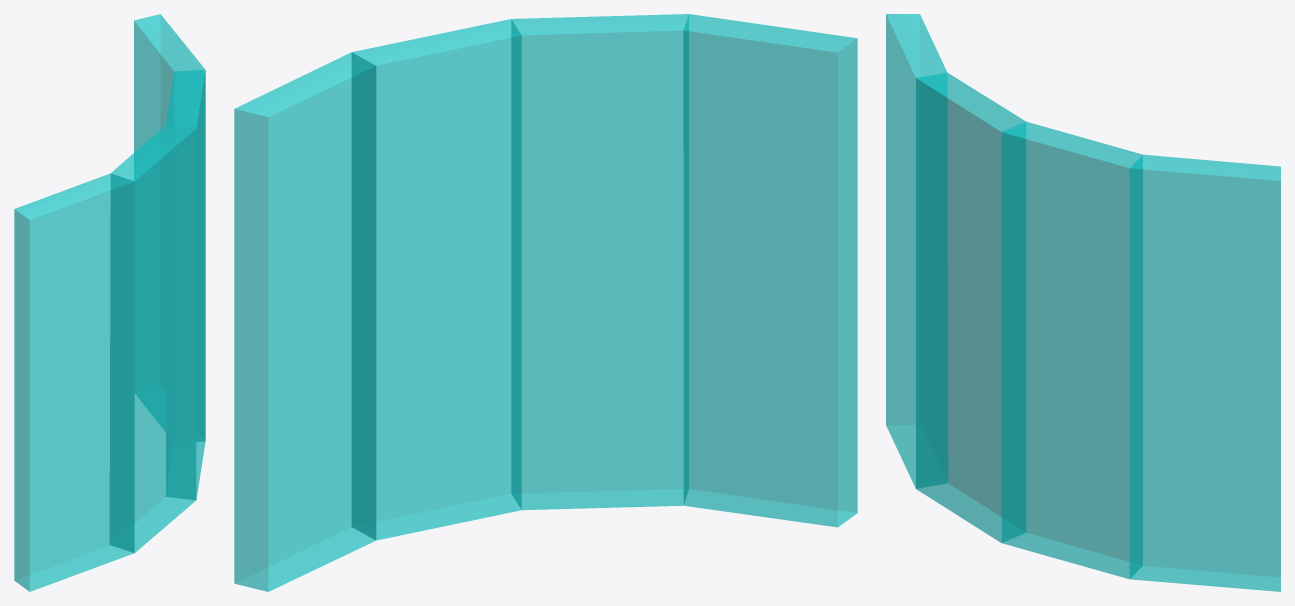
File: SM_Bld_House_Wall_Curved_01_Collision.fbx
3 views of the same model, side by side, from view 1: azimuth 30°, elevation 25°; view 2: azimuth 150°, elevation 25°; view 3: azimuth 270°, elevation 25° (orthographic). The views are drawn at different scales.
Parts seen in each view (by area): view 1: SM_Bld_House_Wall_Curved_01_Collision; view 2: SM_Bld_House_Wall_Curved_01_Collision; view 3: SM_Bld_House_Wall_Curved_01_Collision.
Part boxes in pixels (box(x1,y1,x2,y2)): SM_Bld_House_Wall_Curved_01_Collision: box(14, 14, 205, 591); SM_Bld_House_Wall_Curved_01_Collision: box(234, 14, 857, 591); SM_Bld_House_Wall_Curved_01_Collision: box(886, 14, 1280, 591).
Size of the model in its own units: 261 by 300 by 261.
